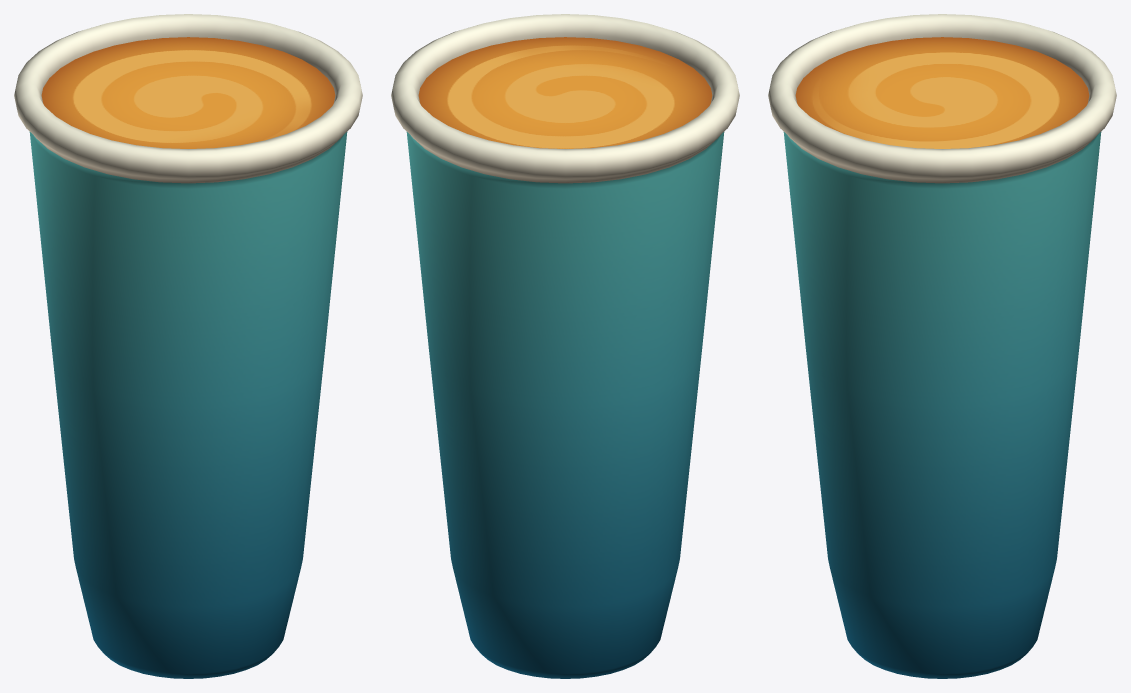
File: Cup_01.fbx
3 views of the same model, side by side, from view 1: azimuth 30°, elevation 25°; view 2: azimuth 150°, elevation 25°; view 3: azimuth 270°, elevation 25° (orthographic).
Parts seen in each view (by area): view 1: Cup_01; view 2: Cup_01; view 3: Cup_01.
Part boxes in pixels (<box>): Cup_01: <box>14,14,362,678</box>; Cup_01: <box>391,14,739,678</box>; Cup_01: <box>768,14,1116,678</box>.
Size of the model in its own units: 67.08 by 120 by 67.08.
